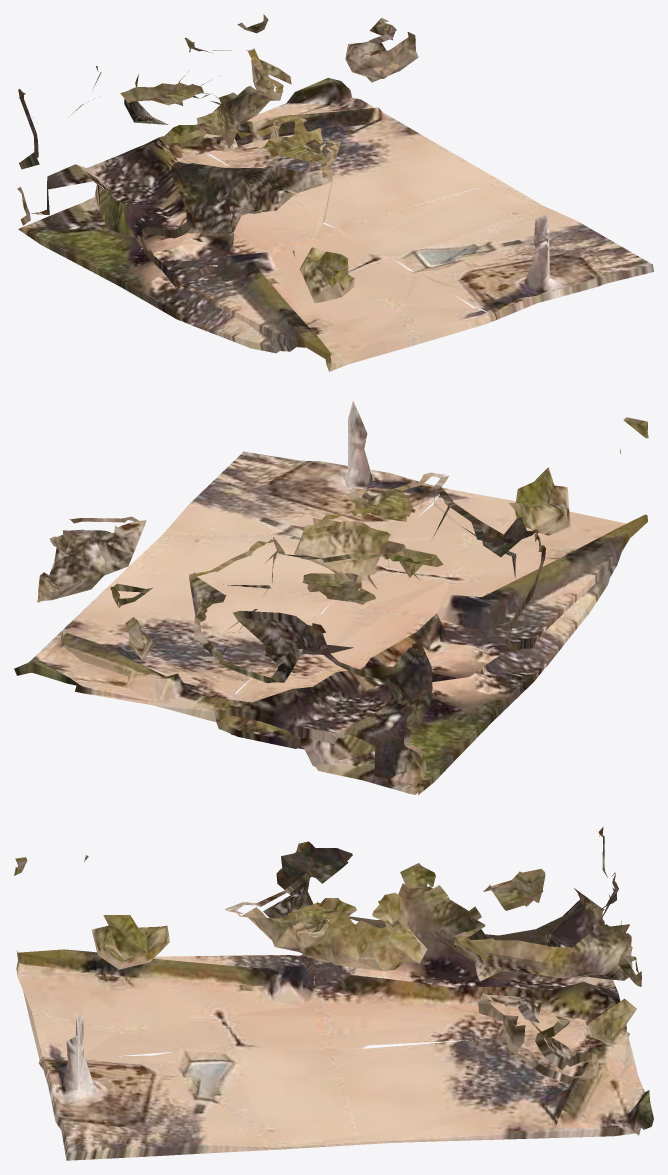
The picture shows the model from 3 angles, top to bottom: view 1: azimuth 30°, elevation 25°; view 2: azimuth 150°, elevation 25°; view 3: azimuth 270°, elevation 25°; orthographic projection. The views are drawn at different scales.
Parts seen in each view (by area): view 1: Mesh_0; view 2: Mesh_0; view 3: Mesh_0.
Boxes of the visible parts, x1,y1,x2,y2 form: Mesh_0: [17, 14, 653, 371]; Mesh_0: [14, 401, 648, 794]; Mesh_0: [14, 826, 653, 1160].
Size of the model in its own units: 33.61 by 11.68 by 41.4.
Materials: 2 (2 with a texture image).
